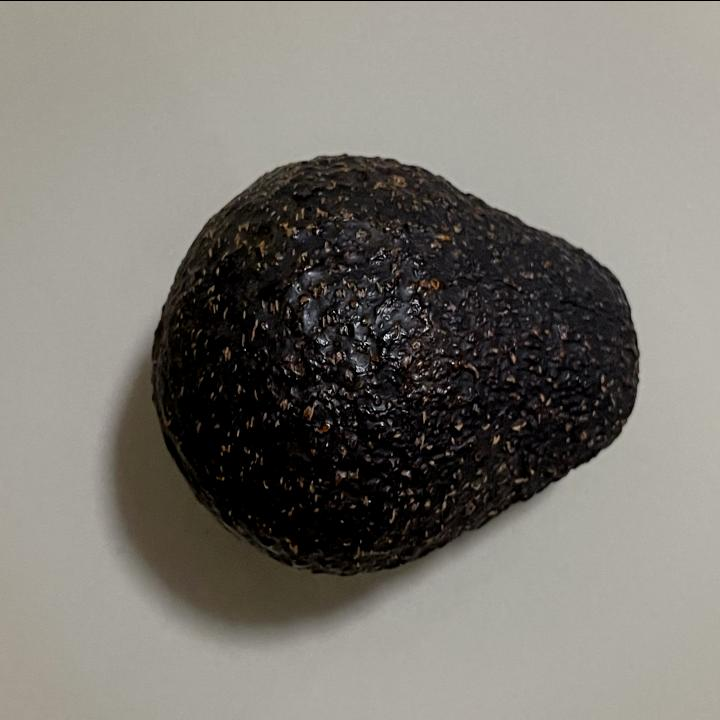Level2: (144, 150, 652, 581)
